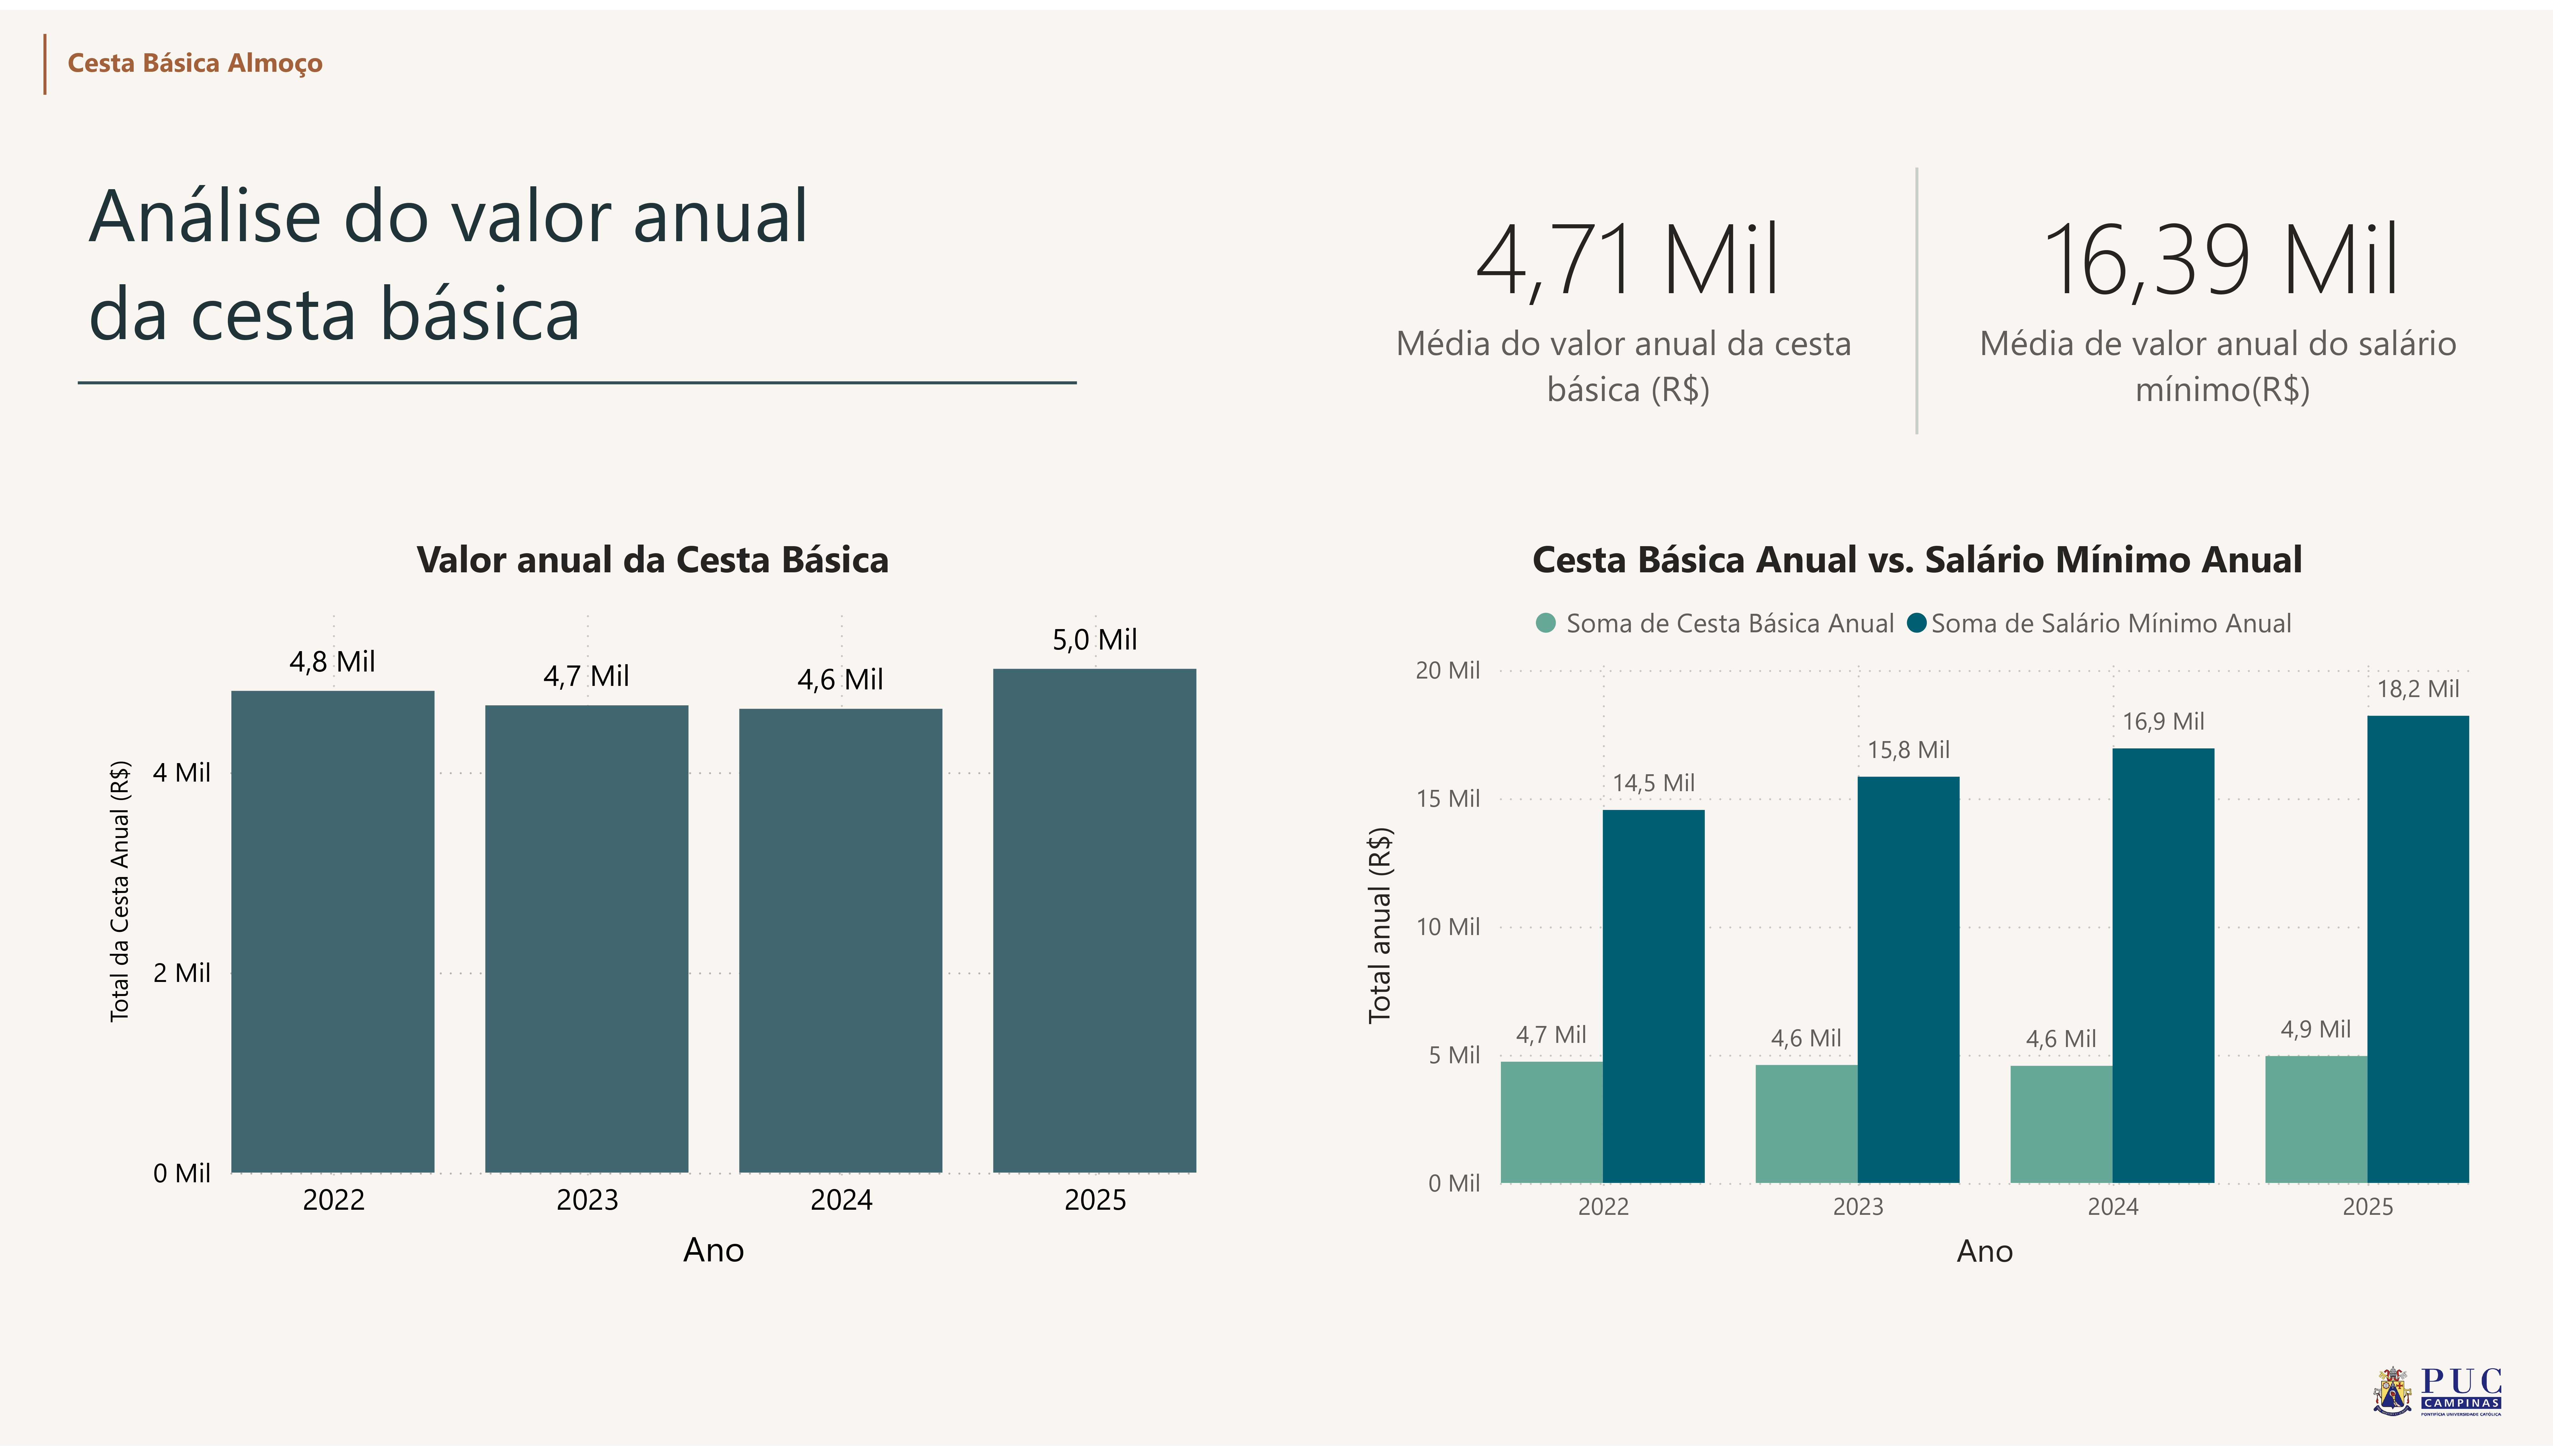

This screenshot's page, from the dashboard's own definition file:
{"tool":"powerbi","page":{"name":"Análise 2","canvas":[1280,720],"ordinal":1},"visuals":[{"type":"textbox","box":[29.3,11.7,147.6,30.5],"z":0,"group":"g1"},{"type":"textbox","box":[38.6,70.9,563.8,124.8],"z":0},{"type":"shape","box":[16.2,11.7,13.1,30.5],"z":1000,"group":"g1"},{"type":"shape","box":[38.6,112.2,500.9,149.9],"z":1000},{"type":"shape","box":[931.3,79.1,60.1,133.8],"z":2000},{"type":"image","box":[1185,675.1,73.6,35],"z":3000},{"type":"card","fields":{"Values":["SalarioCesta.CestaBasicaAnual"]},"box":[672.4,40.4,289.1,185.8],"z":4000},{"type":"card","fields":{"Values":["SalarioCesta.SalarioAnual"]},"box":[969.6,40.4,289.1,185.8],"z":5000},{"type":"clusteredColumnChart","title":"Valor anual da Cesta Básica ","fields":{"Category":["MediaCestaAnual.Ano"],"Y":["MediaCestaAnual.CestaAnual"]},"box":[50.4,261.9,554.8,374.5],"z":6000},{"type":"clusteredColumnChart","title":"Cesta Básica Anual vs. Salário Mínimo Anual","fields":{"Y":["SalarioAnual.CestaAnual","SalarioAnual.SalarioAnual"],"Category":["SalarioCesta.Ano"]},"box":[680.3,261.9,563.1,374.5],"z":7000},{"type":"group","id":"g1","title":"Grupo 1","box":[16.2,11.7,160.7,30.5],"z":8000}]}

Visuals, with their boxes in screenshot pixels (x1, y1, x2, y2), scaled from the page's 1280x720 canvas onto the 2553x1456 screenshot:
textbox: (58, 24, 353, 85)
textbox: (77, 143, 1202, 396)
shape: (32, 24, 58, 85)
shape: (77, 227, 1076, 530)
shape: (1858, 160, 1977, 431)
image: (2363, 1365, 2510, 1436)
card - SalarioCesta.CestaBasicaAnual: (1341, 82, 1918, 457)
card - SalarioCesta.SalarioAnual: (1934, 82, 2511, 457)
"Valor anual da Cesta Básica " clusteredColumnChart: (101, 530, 1207, 1287)
"Cesta Básica Anual vs. Salário Mínimo Anual" clusteredColumnChart: (1357, 530, 2480, 1287)
"Grupo 1" group: (32, 24, 353, 85)
